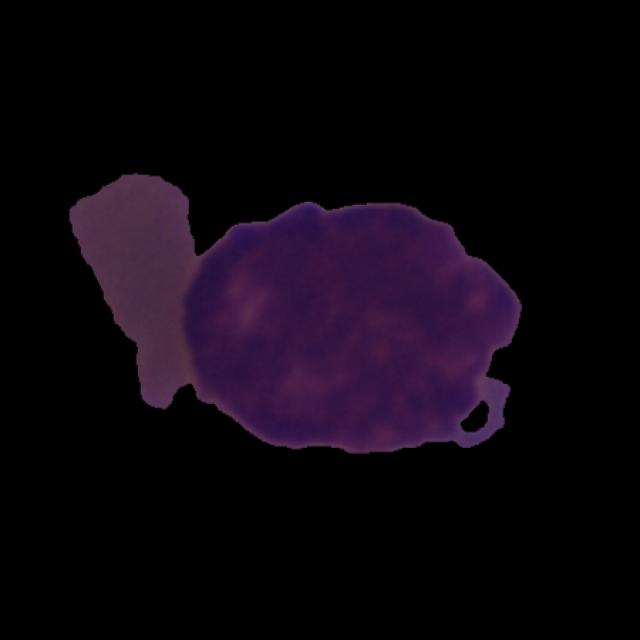ALL Positive Cell: (182, 204, 517, 454)
